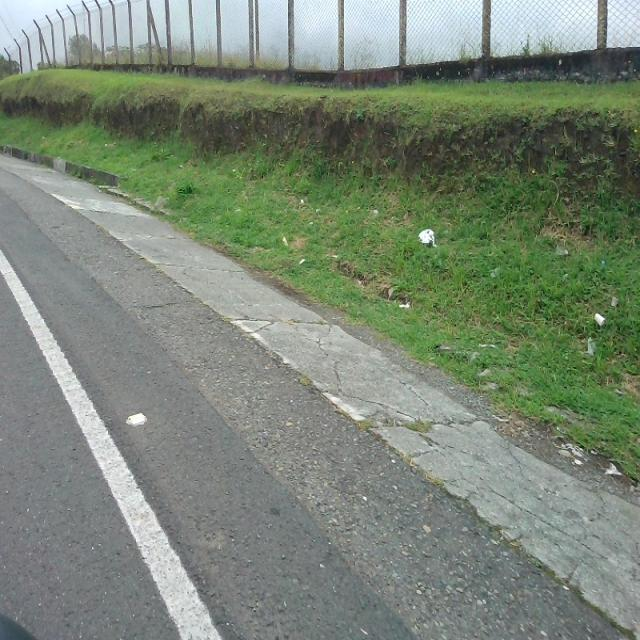DITCH: (1, 146, 638, 638)
